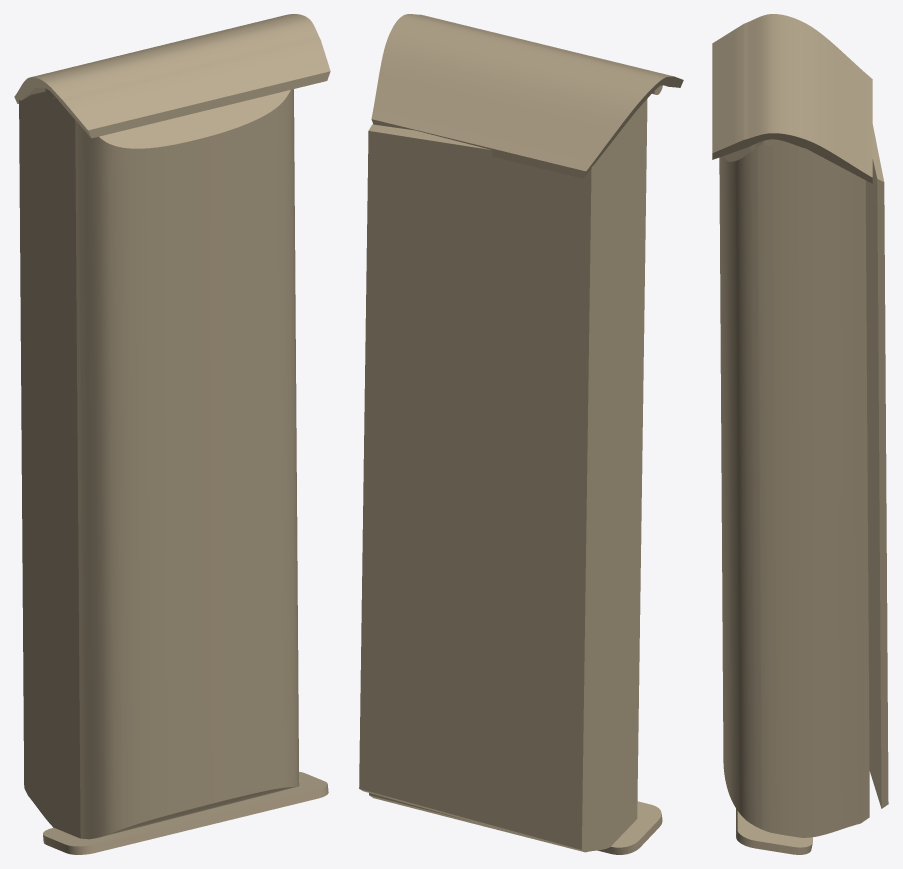
Rendered from simready-food_prepared_bar_b01.glb.
3 renders of one model, left to right at view 1: azimuth 30°, elevation 25°; view 2: azimuth 150°, elevation 25°; view 3: azimuth 270°, elevation 25°, orthographic. The views are drawn at different scales.
Visible parts, largest first — view 1: slab, cap, flap; view 2: slab, cap, flap; view 3: slab, cap, flap.
Boxes of the visible parts, x1=… form: slab: x1=19, y1=89, x2=299, y2=839; cap: x1=14, y1=14, x2=330, y2=138; flap: x1=43, y1=772, x2=328, y2=854; slab: x1=359, y1=99, x2=647, y2=852; cap: x1=371, y1=14, x2=683, y2=178; flap: x1=598, y1=801, x2=662, y2=854; slab: x1=719, y1=124, x2=888, y2=837; cap: x1=712, y1=14, x2=872, y2=183; flap: x1=736, y1=808, x2=812, y2=854.
Bounding box in the file's own units: 0.0417 × 0.1142 × 0.0253.
